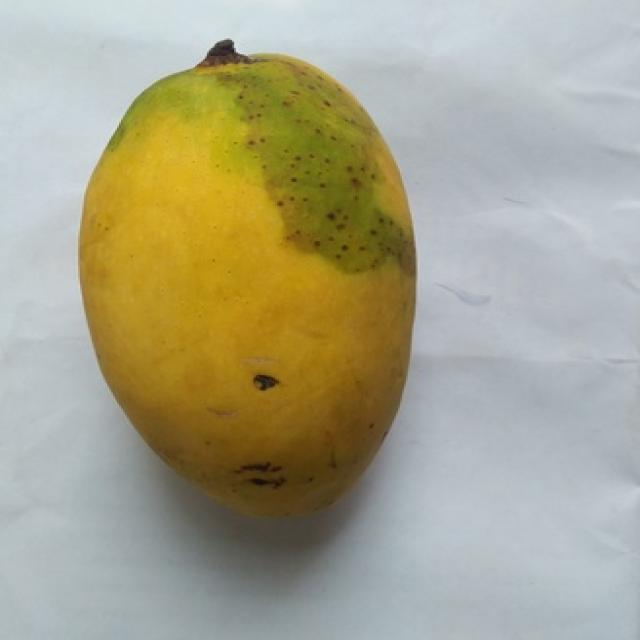Mango: (78, 41, 414, 516)
